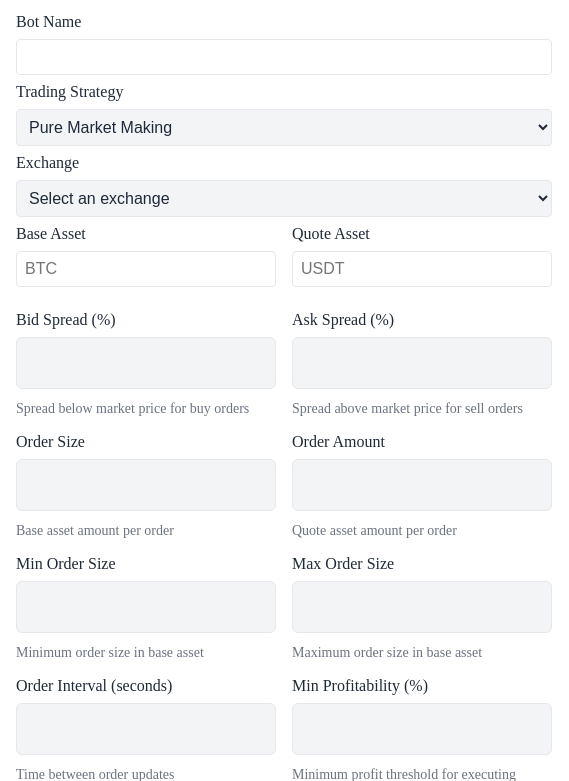
CreateBotForm › shows strategy-specific fields when strategy is changed
Note: Test Market Making strategy fields
Select "Pure Market Making" in the dropdown labelled "Trading Strategy". click: (284, 128)
box: [16, 109, 552, 146]
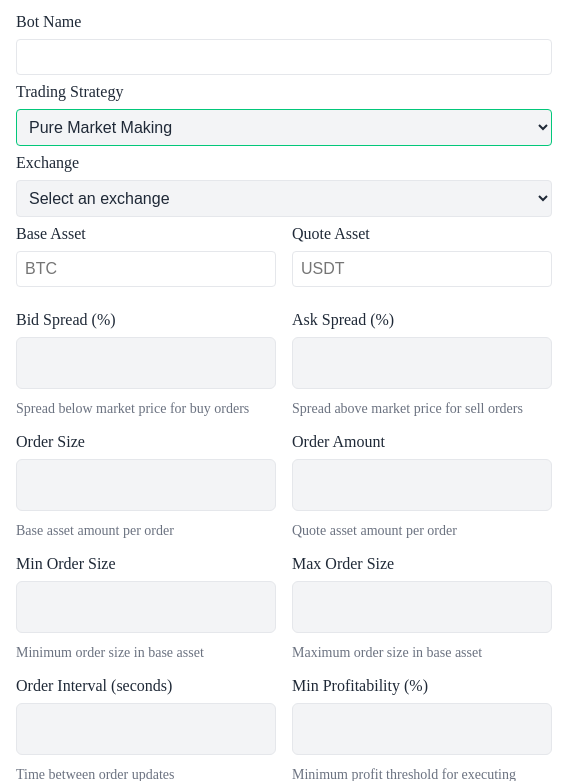
Expected: the number field labelled "Bid Spread (%)" is shown, [16, 337, 276, 389]
Expected: the number field labelled "Ask Spread (%)" is shown, [292, 337, 552, 389]
Note: Test Arbitrage strategy fields
Select "Arbitrage" in the dropdown labelled "Trading Strategy". click: (284, 128)
box: [16, 109, 552, 146]
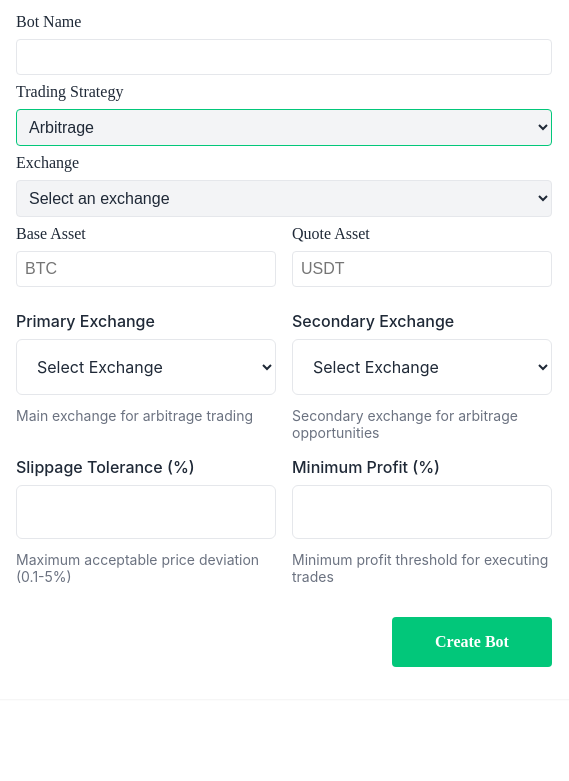
Expected: the dropdown labelled "Primary Exchange" is shown, [16, 339, 276, 395]
Expected: the dropdown labelled "Secondary Exchange" is shown, [292, 339, 552, 395]
Note: Test Grid Trading strategy fields
Select "Grid Trading" in the dropdown labelled "Trading Strategy". click: (284, 128)
box: [16, 109, 552, 146]
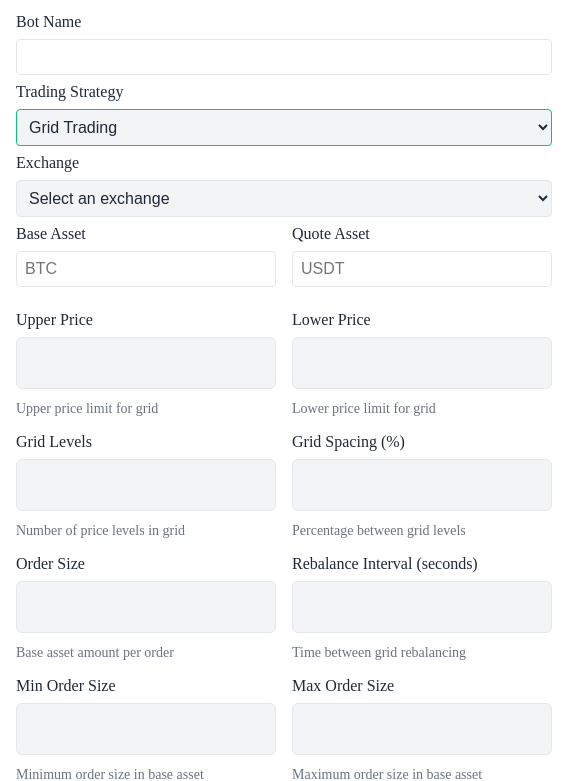
Expected: the number field labelled "Upper Price" is shown, [16, 337, 276, 389]
Expected: the number field labelled "Lower Price" is shown, [292, 337, 552, 389]
Expected: the number field labelled "Grid Levels" is shown, [16, 459, 276, 511]
